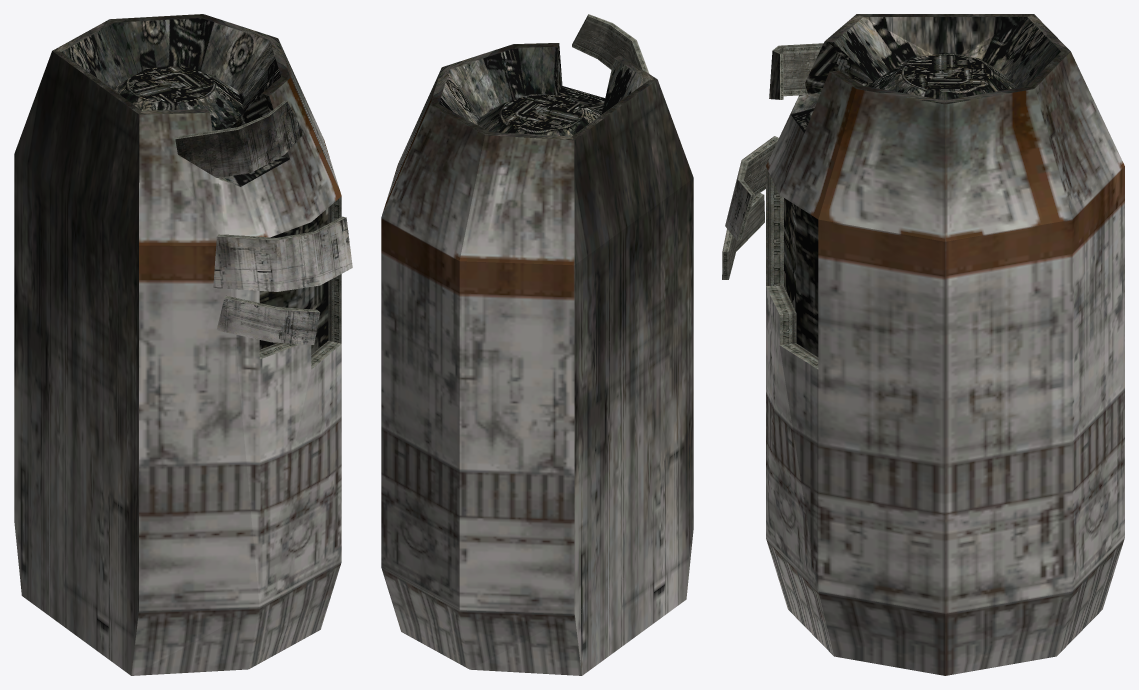
The model's file is thm_tato_lucky_despot_debris_lg_engine_s01_l1.fbx.
The picture shows the model from 3 angles, left to right: view 1: azimuth 30°, elevation 25°; view 2: azimuth 150°, elevation 25°; view 3: azimuth 270°, elevation 25°; orthographic projection. The views are drawn at different scales.
Parts seen in each view (by area): view 1: mesh_node; view 2: mesh_node; view 3: mesh_node.
Part boxes in pixels (x1,y1,x2,y2): mesh_node: (14,14,352,675); mesh_node: (381,14,693,675); mesh_node: (722,14,1124,675).
Size of the model in its own units: 18.42 by 40 by 25.51.
